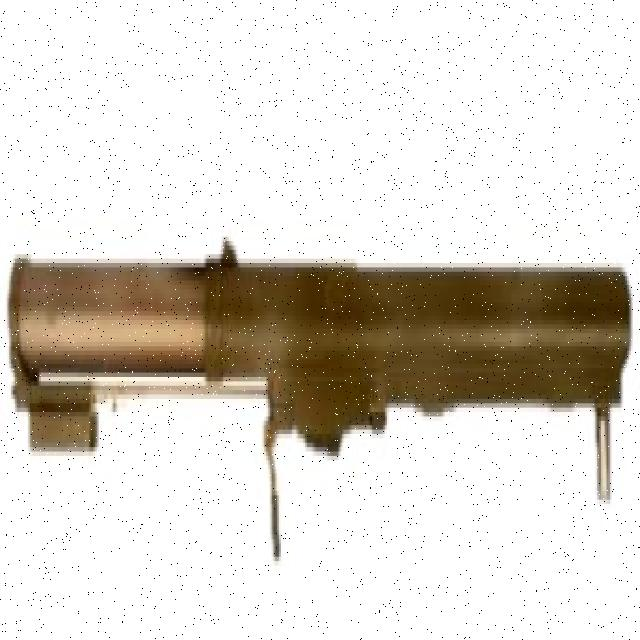bazooka: (5, 221, 637, 580)
